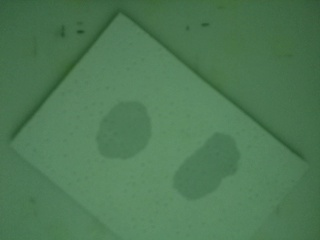Water_detected: (100, 102, 149, 161), (181, 143, 227, 196)
